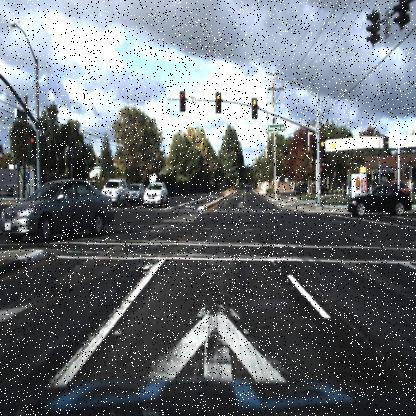car: (0, 178, 114, 246), (340, 182, 414, 224), (142, 178, 168, 209), (104, 178, 125, 204), (394, 172, 416, 196), (128, 182, 143, 206)
trafficLight-Red: (317, 139, 324, 159), (216, 92, 222, 113), (251, 96, 258, 112)
trafficLight-RedLeft: (26, 131, 36, 158), (179, 86, 187, 108)
